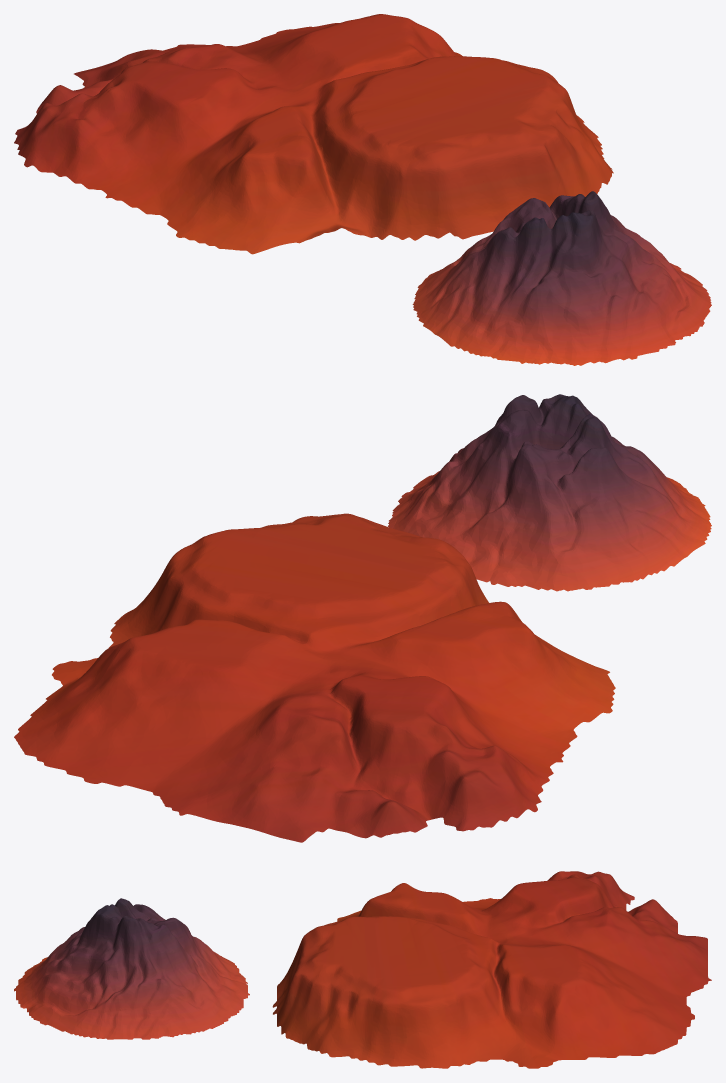
File: mountain+volcano.glb
3 renders of one model, top to bottom at view 1: azimuth 30°, elevation 25°; view 2: azimuth 150°, elevation 25°; view 3: azimuth 270°, elevation 25°, orthographic. The views are drawn at different scales.
Visible parts, largest first — view 1: Landscape.013, Landscape.015; view 2: Landscape.013, Landscape.015; view 3: Landscape.013, Landscape.015.
Part boxes in pixels (box(x1,y1,x2,y2)): Landscape.013: box(14, 14, 613, 254); Landscape.015: box(412, 191, 711, 365); Landscape.013: box(14, 513, 615, 842); Landscape.015: box(388, 394, 711, 591); Landscape.013: box(272, 871, 711, 1068); Landscape.015: box(14, 898, 249, 1039).
Bounding box in the file's own units: 170 × 37.06 × 275.
Materials: 1 (1 with a texture image).
